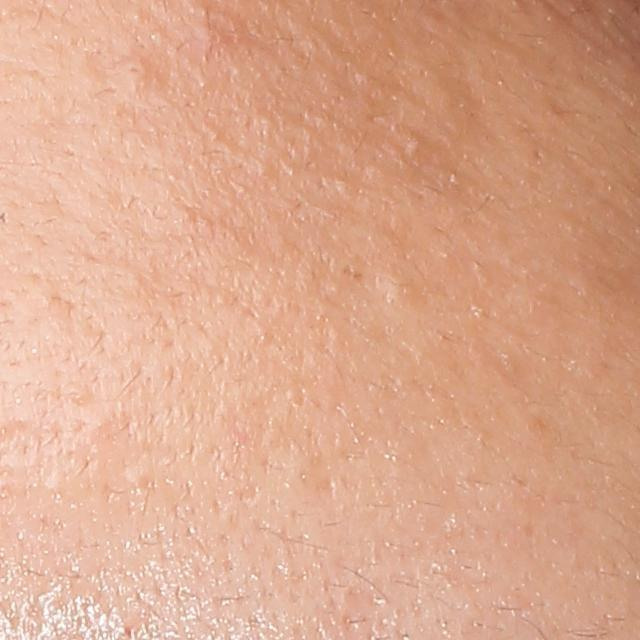comedo: (379, 272, 420, 309), (404, 134, 421, 158)
